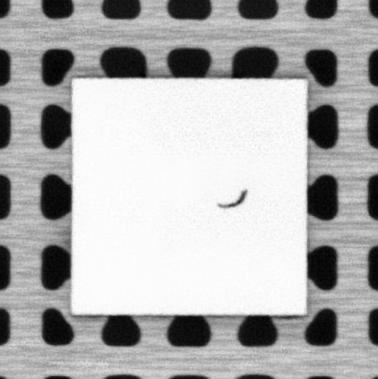DIE_INK: (216, 189, 249, 210)
